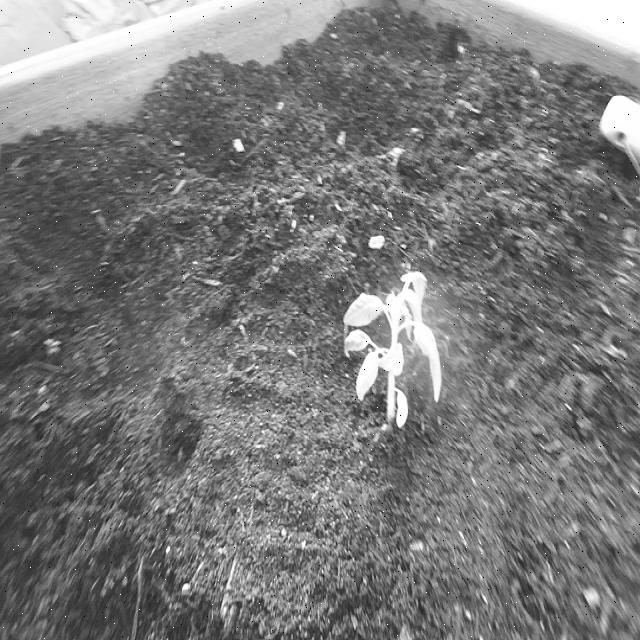Healthy: (332, 248, 452, 442)
